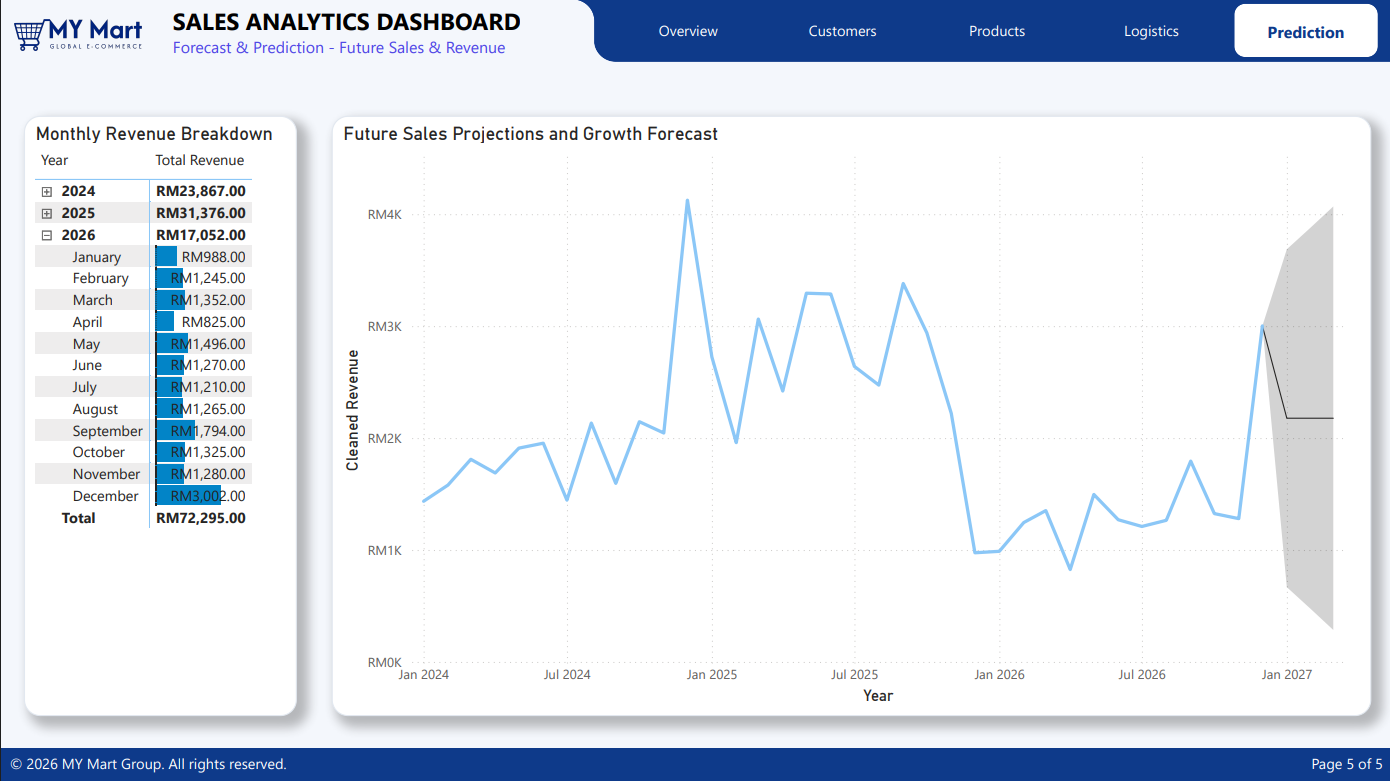

This screenshot's page, from the dashboard's own definition file:
{"tool":"powerbi","page":{"name":"Prediction","canvas":[1280,720],"ordinal":4},"visuals":[{"type":"lineChart","title":"Future Sales Projections and Growth Forecast","fields":{"Category":["CalendarTable.Date.Variation.Date Hierarchy.Year","CalendarTable.Date.Variation.Date Hierarchy.Month"],"Y":["MY_Mart_Sales_Data.Cleaned Revenue"]},"box":[304.5,107.3,956,551.6],"z":0},{"type":"shape","title":"NaviTop3","box":[0,0,568.2,33.8],"z":1000},{"type":"shape","title":"NaviTop2","box":[546.3,0,733.7,57.5],"z":2000},{"type":"shape","title":"NaviTop1","box":[0,0,546.5,56.7],"z":3000},{"type":"shape","box":[0,689.4,1280.3,30.6],"z":4000},{"type":"pageNavigator","box":[567,0,704.6,57.9],"z":5000},{"type":"image","box":[13.3,0,117,65.1],"z":6000},{"type":"textbox","box":[3.7,689.4,639.5,30.6],"z":7000},{"type":"textbox","box":[635.9,689.4,640.8,30.6],"z":8000},{"type":"textbox","box":[154.4,0,392.1,65.1],"z":9000},{"type":"pivotTable","title":"Monthly Revenue Breakdown","fields":{"Rows":["CalendarTable.Date.Variation.Date Hierarchy.Year","CalendarTable.Date.Variation.Date Hierarchy.Month"],"Values":["MY_Mart_Sales_Data.Total Revenue"]},"box":[22.5,107.3,250.9,551.6],"z":10000}]}

Visuals, with their boxes in screenshot pixels (x1, y1, x2, y2), scaled from the page's 1280x720 canvas onto the 1390x781 screenshot:
"Future Sales Projections and Growth Forecast" lineChart: <box>331,116,1369,715</box>
"NaviTop3" shape: <box>0,0,617,37</box>
"NaviTop2" shape: <box>593,0,1389,62</box>
"NaviTop1" shape: <box>0,0,593,62</box>
shape: <box>0,748,1389,780</box>
pageNavigator: <box>616,0,1381,63</box>
image: <box>14,0,141,71</box>
textbox: <box>4,748,698,780</box>
textbox: <box>691,748,1386,780</box>
textbox: <box>168,0,593,71</box>
"Monthly Revenue Breakdown" pivotTable: <box>24,116,297,715</box>
